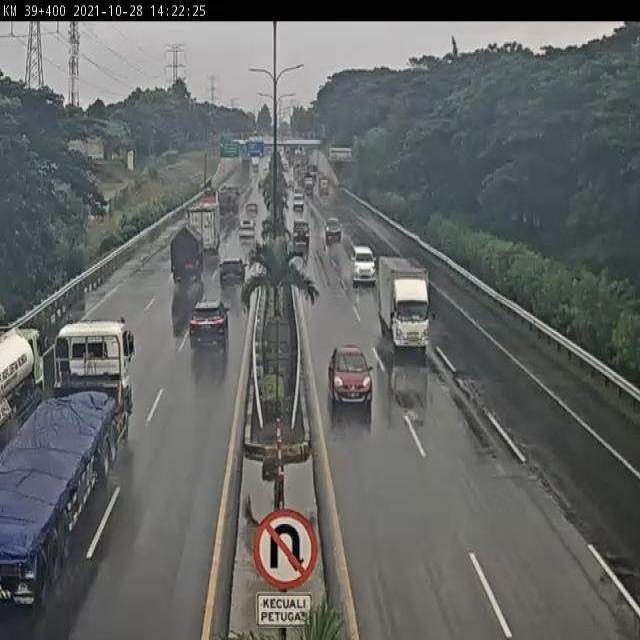car: (189, 298, 228, 351), (349, 245, 378, 283), (219, 256, 245, 287), (291, 215, 312, 245), (324, 214, 342, 242)
truck-l-: (182, 203, 221, 261)
truck-m-: (0, 326, 46, 430), (170, 228, 205, 285)
truck-s-: (380, 259, 433, 353)
truck-xl-: (0, 320, 135, 621)
